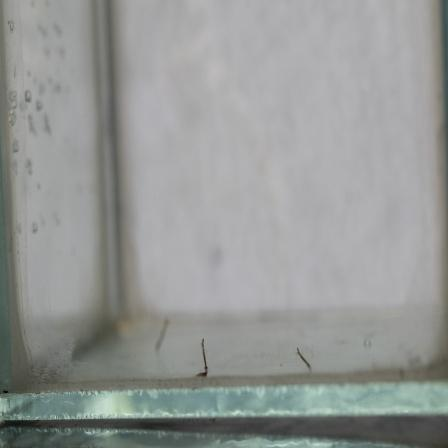Jentik-Nyamuk: (195, 334, 212, 383), (294, 345, 313, 372)
